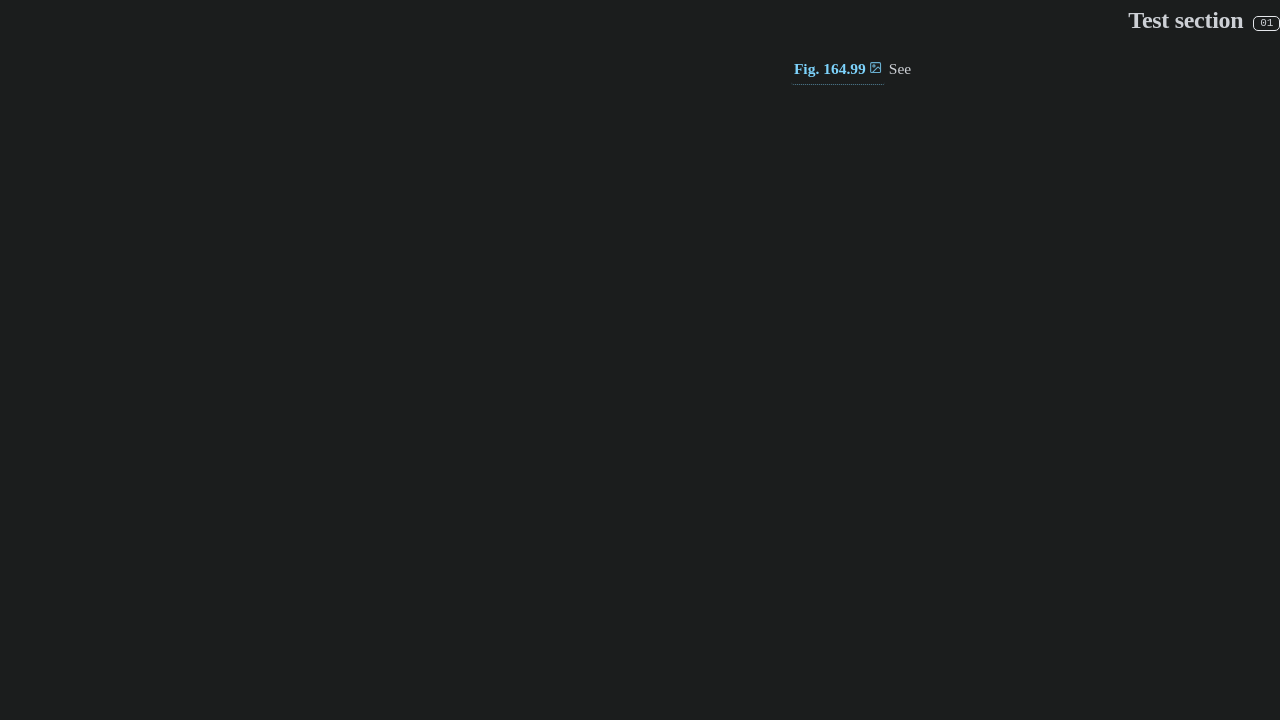
Test: Media reader pipeline — Phase 2 registry resolution › unmatched refs open the same viewer shell and can browse imported chapter media
Click the button "Fig. 164.99" at [838, 70], box [791,54,885,85]
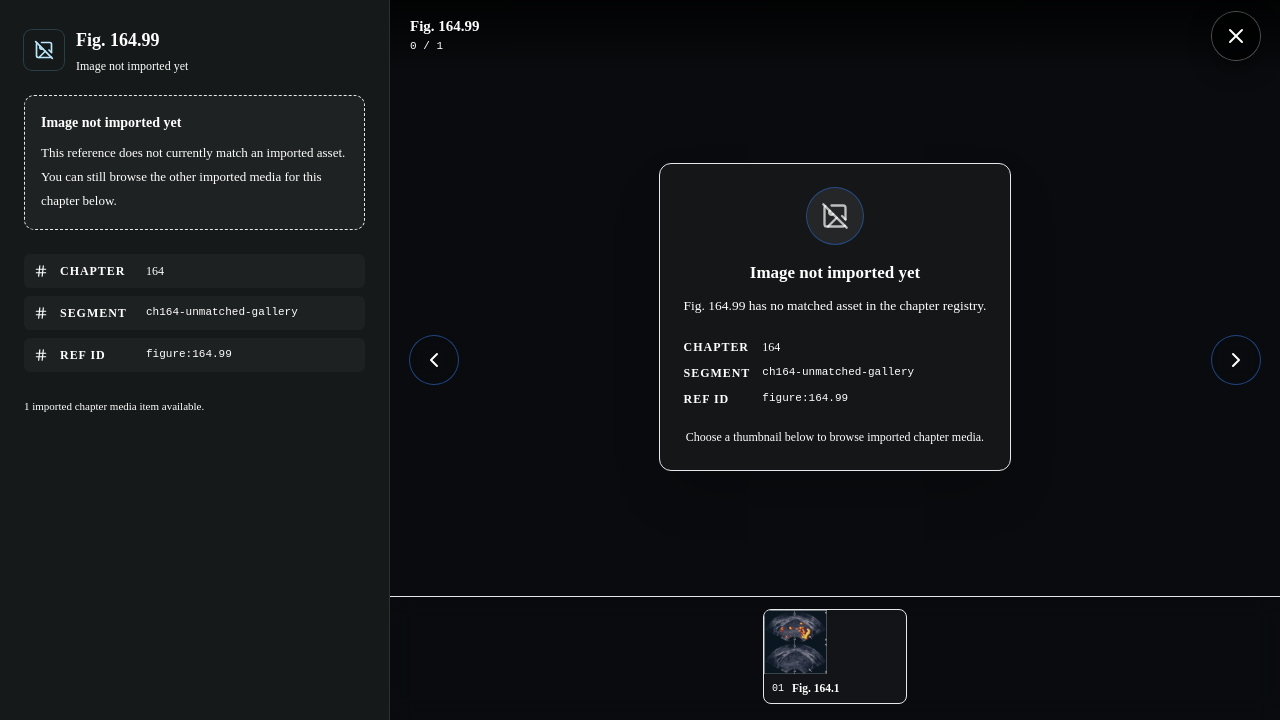
Expected: the text "Image not imported yet" is shown, [76,59,188,73]
Expected: the element with test id "media-fallback-state" is shown, [659,163,1011,471]
Expected: the number of buttons with test id "media-thumbnail" is 1
Click the button with test id "media-thumbnail" at [835, 656], box [763,609,907,704]
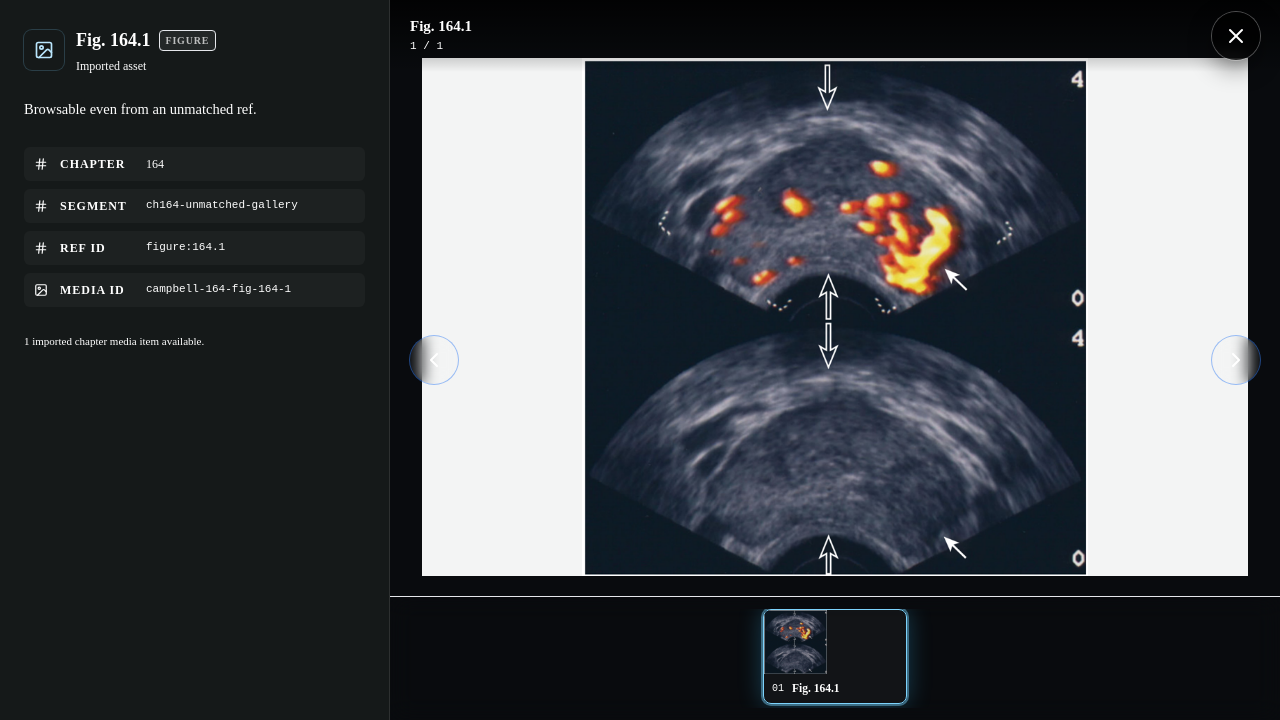
Expected: the text "Imported asset" is shown, [76,59,146,73]
Expected: the text "Image not imported yet" is gone
